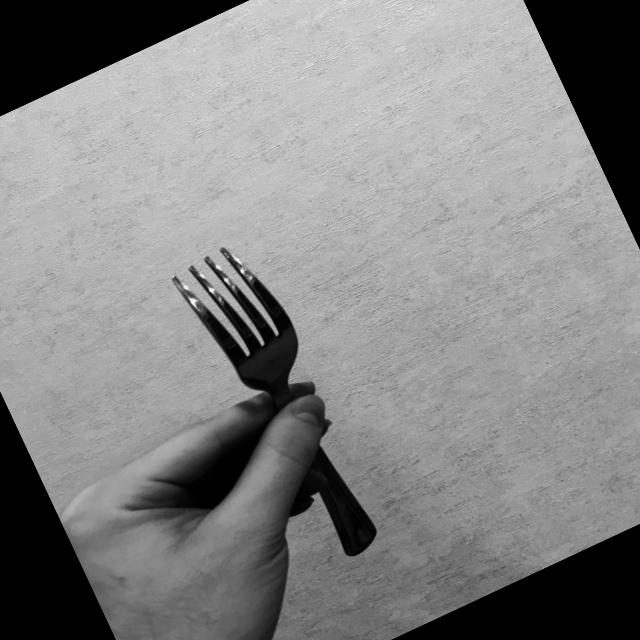fork: (163, 227, 395, 578)
